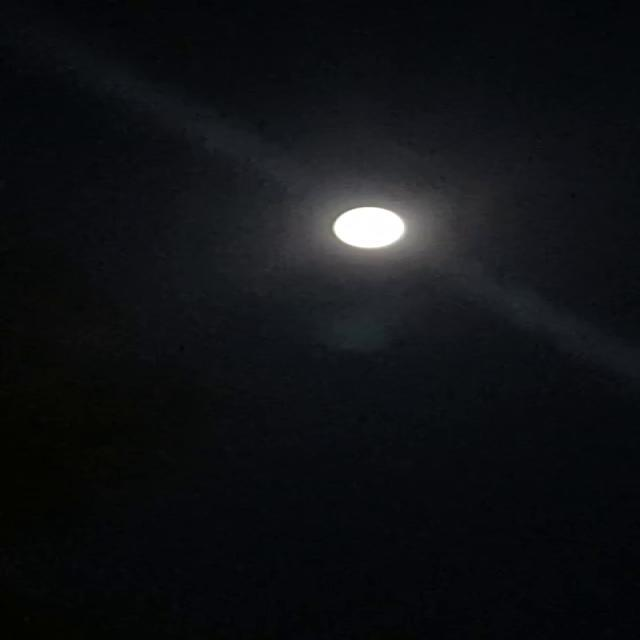moon: (312, 201, 428, 259)
